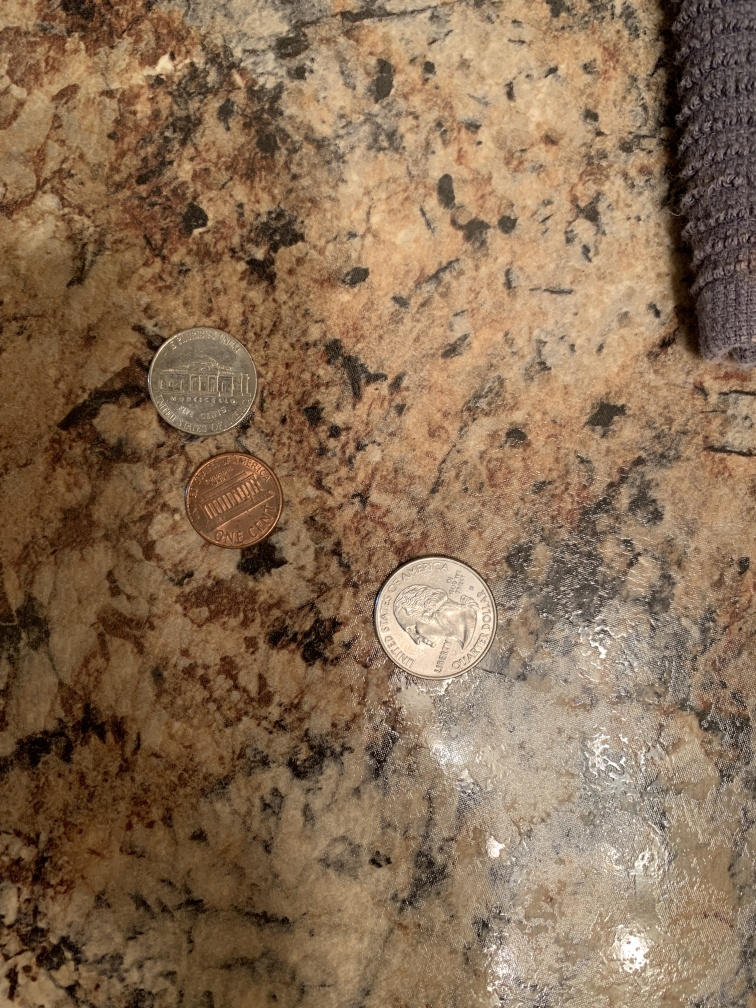nickel: (143, 320, 264, 439)
penny: (180, 448, 287, 555)
quarter: (374, 551, 501, 681)
